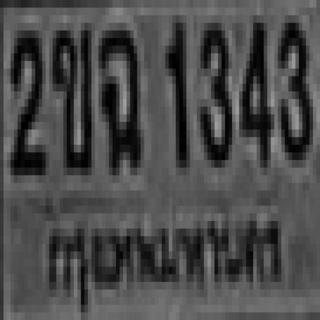A02: (49, 23, 91, 168)
A09: (97, 23, 139, 168)
N01: (163, 15, 184, 160)
N02: (7, 27, 42, 171)
N03: (278, 11, 310, 156), (197, 15, 229, 160)
N04: (239, 15, 271, 160)
P04: (43, 207, 285, 318)
